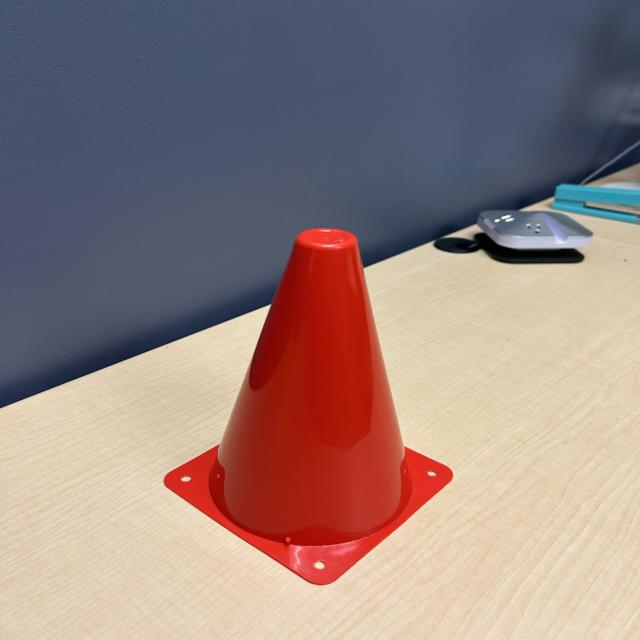orange cone: (160, 220, 461, 591)
